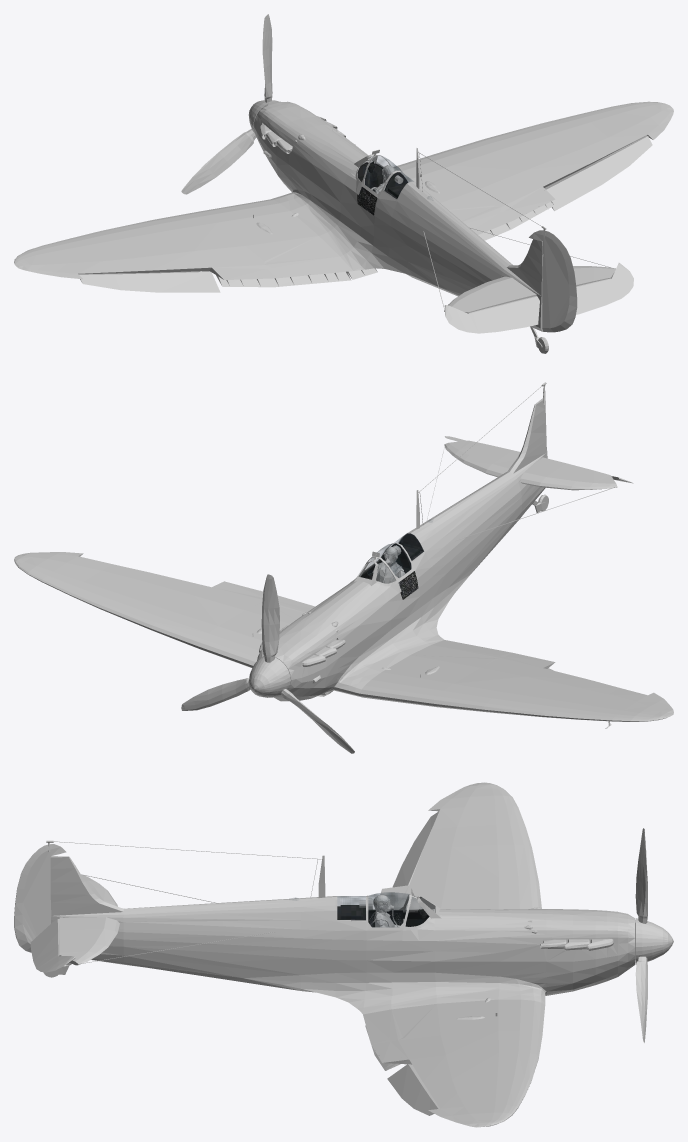
The model's file is spit.dae.
The picture shows the model from 3 angles, top to bottom: view 1: azimuth 30°, elevation 25°; view 2: azimuth 150°, elevation 25°; view 3: azimuth 270°, elevation 25°; orthographic projection. The views are drawn at different scales.
Visible parts, largest first — view 1: left_wing.1, right_wing.1, body_front, rear, cockpit.1, glass.1; view 2: body_front, left_wing.1, right_wing.1, rear, cockpit.1, glass.1, pilot; view 3: body_front, rear, right_wing.1, left_wing.1, glass.1, cockpit.1, pilot.
Boxes of the visible parts, left/top/right/bottom form: left_wing.1: left=14, top=197, right=377, bottom=292; right_wing.1: left=393, top=101, right=673, bottom=240; body_front: left=253, top=101, right=468, bottom=293; rear: left=181, top=14, right=633, bottom=353; cockpit.1: left=357, top=161, right=407, bottom=215; glass.1: left=360, top=156, right=413, bottom=198; body_front: left=257, top=490, right=480, bottom=701; left_wing.1: left=355, top=640, right=673, bottom=728; right_wing.1: left=14, top=552, right=315, bottom=667; rear: left=181, top=382, right=633, bottom=753; cockpit.1: left=360, top=533, right=423, bottom=599; glass.1: left=361, top=520, right=429, bottom=581; pilot: left=372, top=547, right=405, bottom=583; body_front: left=222, top=855, right=635, bottom=1014; rear: left=14, top=828, right=673, bottom=1042; right_wing.1: left=363, top=991, right=545, bottom=1127; left_wing.1: left=380, top=782, right=541, bottom=909; glass.1: left=294, top=892, right=422, bottom=927; cockpit.1: left=337, top=905, right=429, bottom=927; pilot: left=369, top=895, right=407, bottom=927.
Size of the model in its own units: 1167 by 284 by 945.
